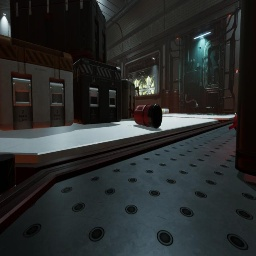0: (161, 108, 169, 114)
FireExtinguisher ]: (128, 104, 162, 129), (228, 114, 237, 131), (142, 104, 147, 105)
